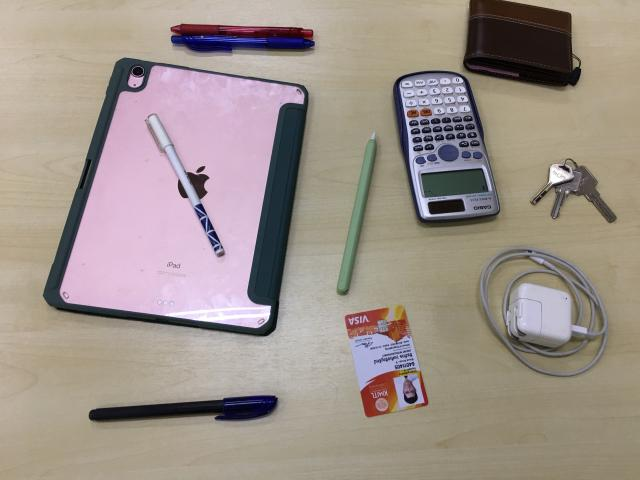Keys: (532, 160, 617, 223)
Pen: (145, 113, 228, 259), (88, 396, 280, 427), (170, 24, 317, 52)
Wallet: (463, 0, 582, 88)
wire: (482, 251, 606, 377)
